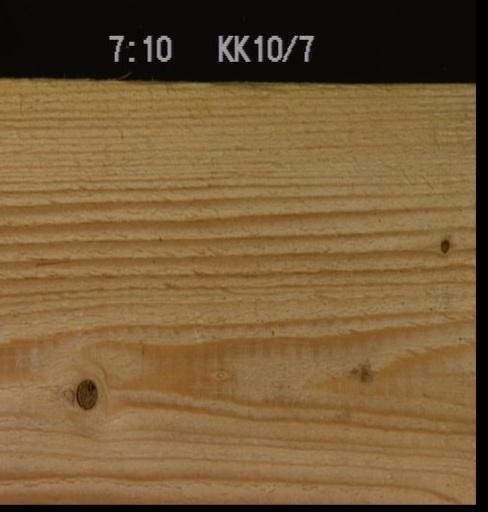dry_knot: (73, 376, 98, 409), (438, 235, 449, 253)
